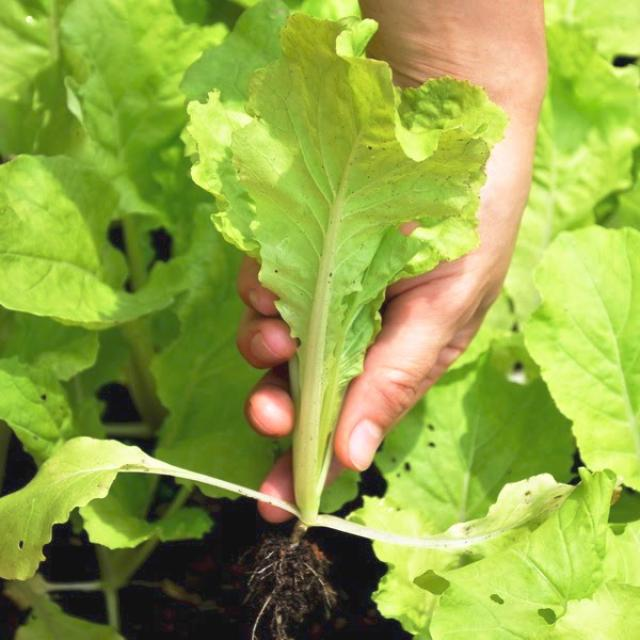chinese_cabbage: (115, 21, 518, 530)
